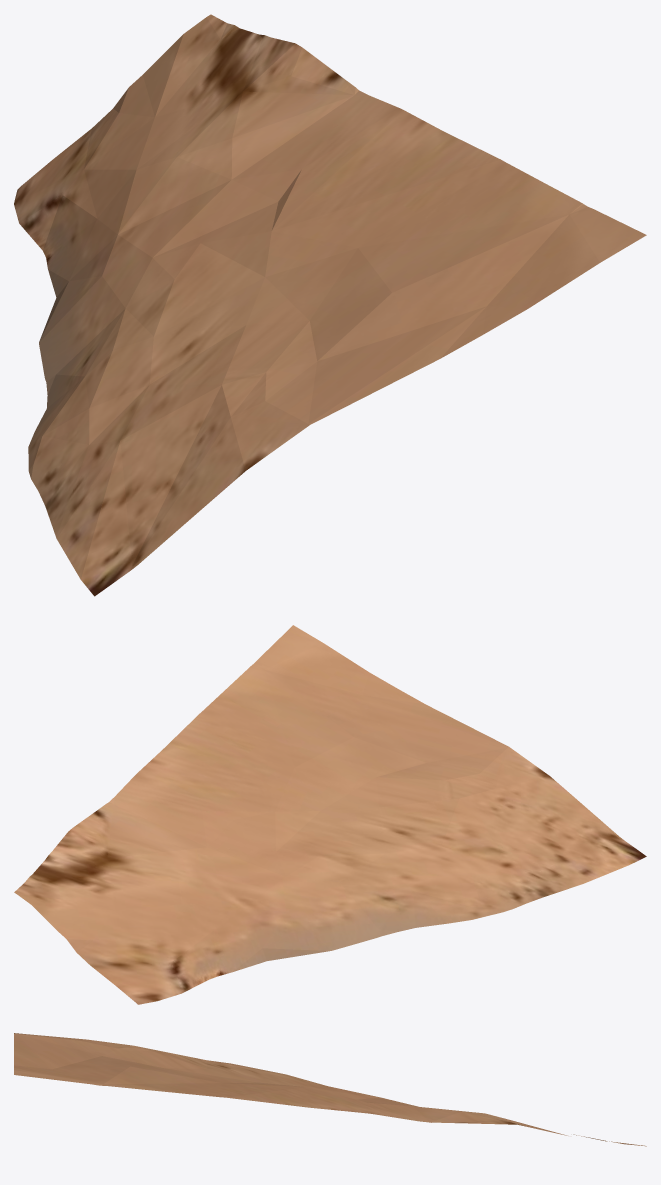
The picture shows the model from 3 angles, top to bottom: view 1: azimuth 30°, elevation 25°; view 2: azimuth 150°, elevation 25°; view 3: azimuth 270°, elevation 25°; orthographic projection. The views are drawn at different scales.
Bounding box in the file's own units: 0.764 × 0.2996 × 1.04.
2 materials, 2 textured.
